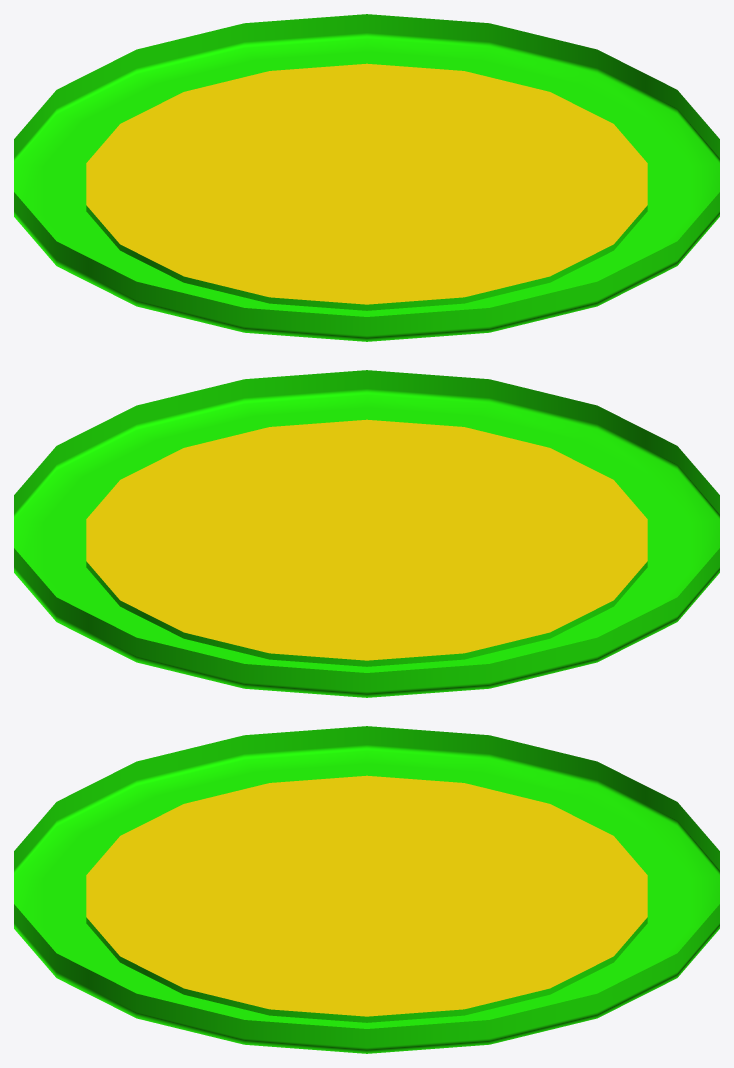
The model's file is Spotlight.FBX.
The picture shows the model from 3 angles, top to bottom: view 1: azimuth 30°, elevation 25°; view 2: azimuth 150°, elevation 25°; view 3: azimuth 270°, elevation 25°; orthographic projection.
Visible parts, largest first — view 1: Cylinder016; view 2: Cylinder016; view 3: Cylinder016.
Part boxes in pixels (box(x1,y1,x2,y2)): Cylinder016: box(14, 14, 719, 341); Cylinder016: box(14, 370, 719, 697); Cylinder016: box(14, 726, 719, 1053).
Size of the model in its own units: 6.43 by 0.2459 by 6.33.
